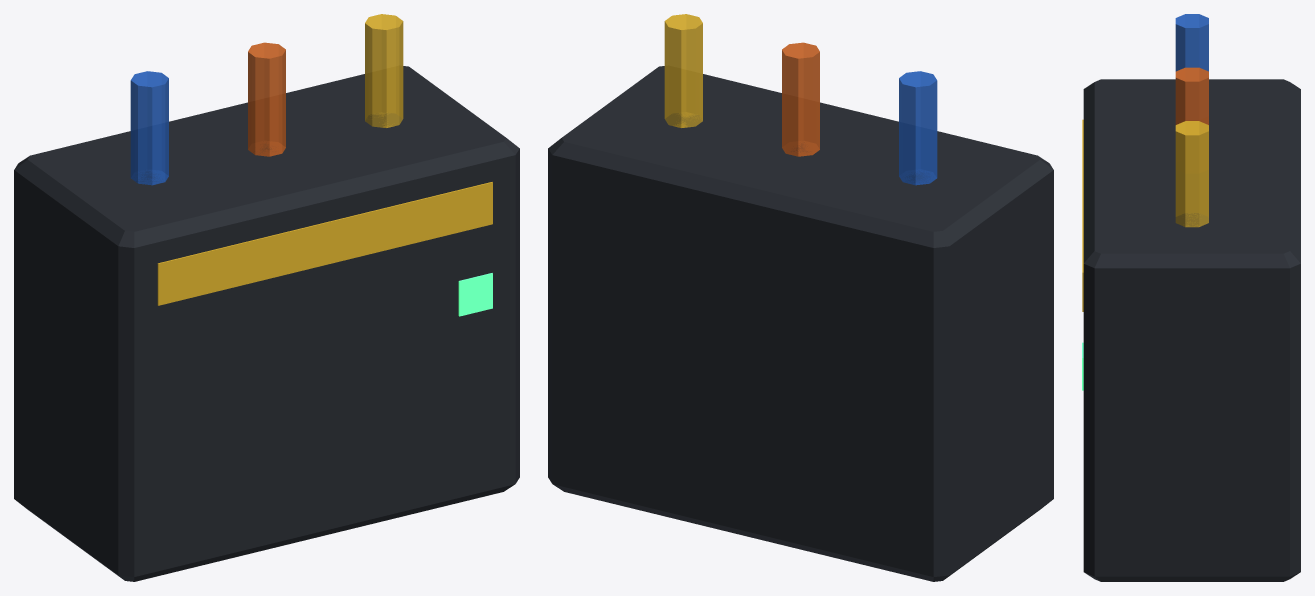
File: ammo_station.glb
3 renders of one model, left to right at view 1: azimuth 30°, elevation 25°; view 2: azimuth 150°, elevation 25°; view 3: azimuth 270°, elevation 25°, orthographic. The views are drawn at different scales.
Parts seen in each view (by area): view 1: ammo_station; view 2: ammo_station; view 3: ammo_station.
Part boxes in pixels (x1,y1,x2,y2): ammo_station: [14, 14, 519, 581]; ammo_station: [548, 14, 1053, 581]; ammo_station: [1082, 14, 1300, 581].
Size of the model in its own units: 1.2 by 1.28 by 0.6045.
